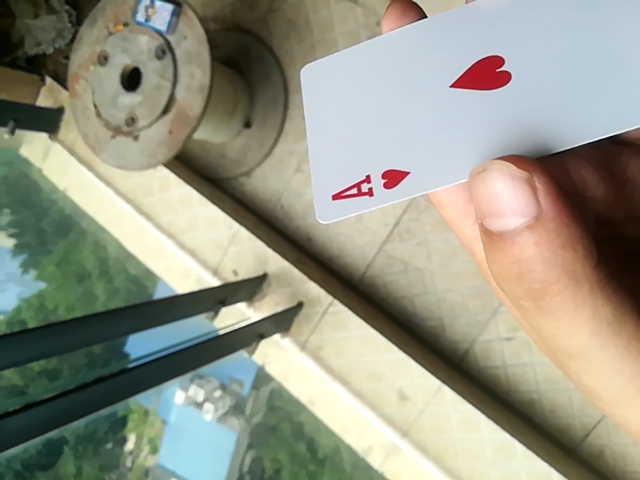hx a: (300, 0, 638, 226)
